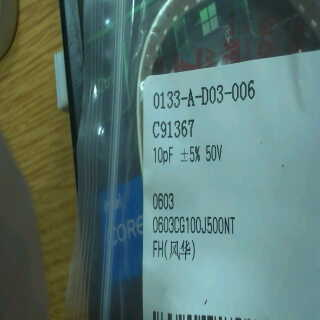10pF: (143, 144, 181, 175)
